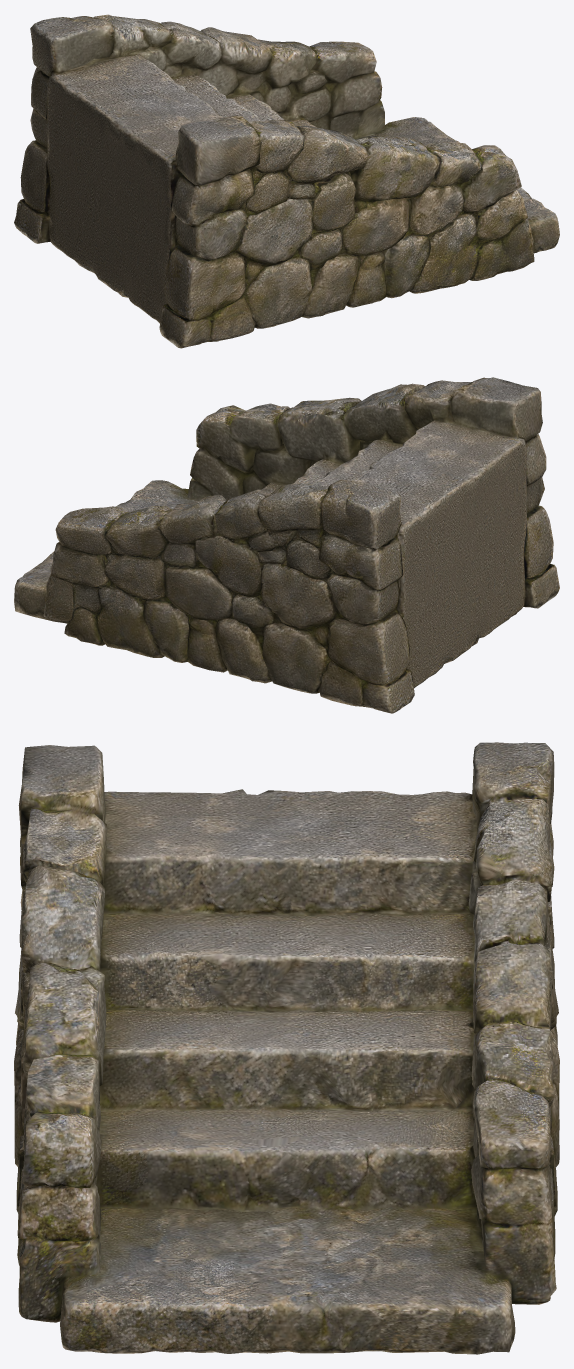
The model's file is kawabata.glb.
3 views of the same model, one above another, from view 1: azimuth 30°, elevation 25°; view 2: azimuth 150°, elevation 25°; view 3: azimuth 270°, elevation 25° (orthographic). The views are drawn at different scales.
Parts seen in each view (by area): view 1: tripo_node_cfd64f97-2cc1-4fc1-956c-5573a7ba0128; view 2: tripo_node_cfd64f97-2cc1-4fc1-956c-5573a7ba0128; view 3: tripo_node_cfd64f97-2cc1-4fc1-956c-5573a7ba0128.
Boxes of the visible parts, <box> form: tripo_node_cfd64f97-2cc1-4fc1-956c-5573a7ba0128: <box>14,14,559,348</box>; tripo_node_cfd64f97-2cc1-4fc1-956c-5573a7ba0128: <box>14,377,559,713</box>; tripo_node_cfd64f97-2cc1-4fc1-956c-5573a7ba0128: <box>14,742,559,1354</box>.
Size of the model in its own units: 2.38 by 1.2 by 1.8.
1 material, 1 textured.
